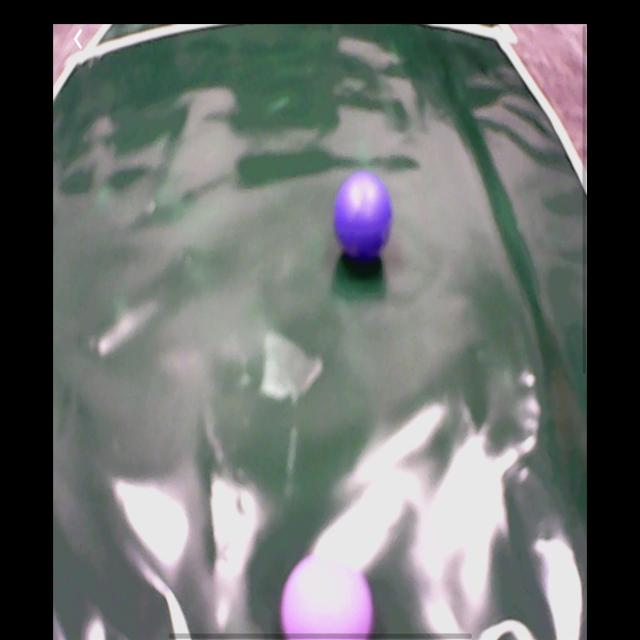ball: (282, 556, 376, 638), (334, 172, 393, 262)
